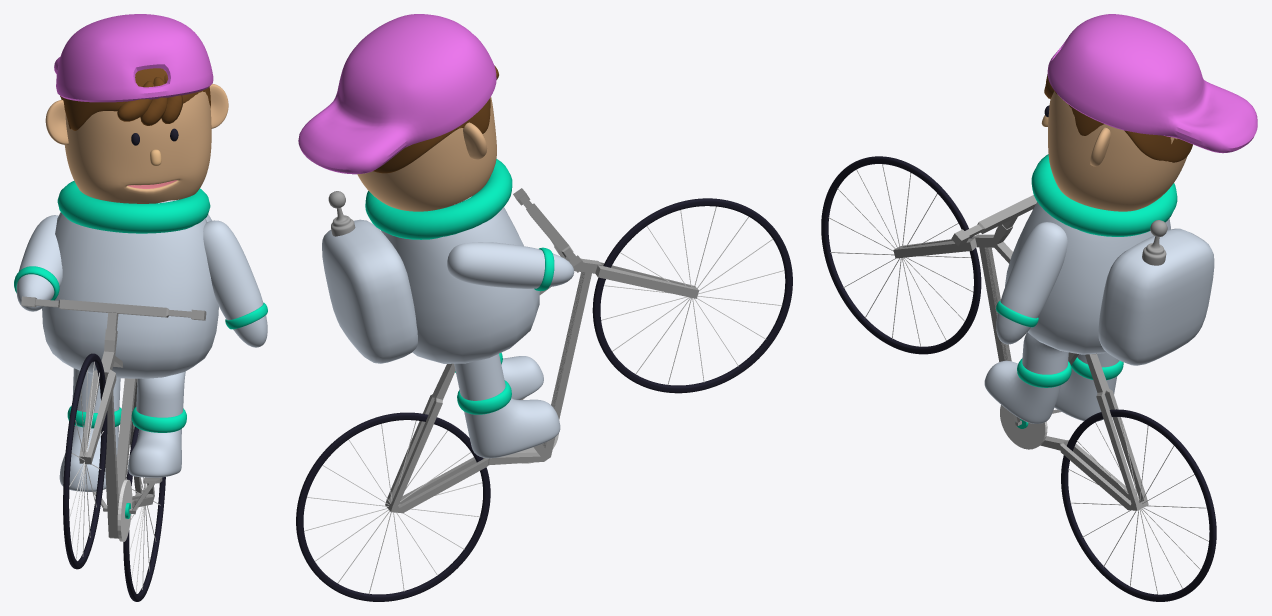
File: marcel-top.glb
3 renders of one model, left to right at view 1: azimuth 30°, elevation 25°; view 2: azimuth 150°, elevation 25°; view 3: azimuth 270°, elevation 25°, orthographic. The views are drawn at different scales.
Parts seen in each view (by area): view 1: Cube.024, hlava.001, hat.001, Torus.004, Cube.029, Cube.025, kostra, Circle.001, Cube.032, Cube, Cube.026, vlasy.001 (+13 smaller); view 2: hat.001, Cube.024, Cube.033, hlava.001, kostra, Cube.026, Circle.001, Torus.004, Circle, Cube.032, Cube, vlasy.001 (+5 smaller); view 3: hat.001, Cube.033, hlava.001, Cube.024, kostra, Cube.029, Torus.004, Circle.001, Cube.025, Circle, Cube.026, vlasy.001 (+5 smaller).
Boxes of the visible parts, x1,y1,x2,y2 form: Cube.024: (42,189,218,378); hlava.001: (64,91,211,203); hat.001: (54,14,213,102); Torus.004: (57,181,210,233); Cube.029: (203,220,267,347); Cube.025: (128,371,185,477); kostra: (105,356,154,538); Circle.001: (63,353,107,569); Cube.032: (16,215,62,311); Cube: (21,296,206,380); Cube.026: (59,368,120,491); vlasy.001: (60,68,210,130); hat.001: (298,14,496,174); Cube.024: (381,196,539,363); Cube.033: (322,219,417,363); hlava.001: (357,97,496,211); kostra: (385,272,591,513); Cube.026: (454,354,560,458); Circle.001: (592,198,792,393); Torus.004: (365,159,512,239); Circle: (296,412,490,601); Cube.032: (447,242,574,288); Cube: (513,188,601,273); vlasy.001: (373,98,490,173); hat.001: (1047,14,1257,153); Cube.033: (1098,228,1214,365); hlava.001: (1048,91,1187,211); Cube.024: (1005,202,1170,354); kostra: (979,241,1148,510); Cube.029: (996,222,1067,344); Torus.004: (1031,154,1177,236); Circle.001: (821,156,981,354); Cube.025: (984,332,1068,423); Circle: (1061,409,1216,601); Cube.026: (1054,352,1119,421); vlasy.001: (1054,90,1192,162).
Bounding box in the file's own units: 1.75 × 3.11 × 2.19.
